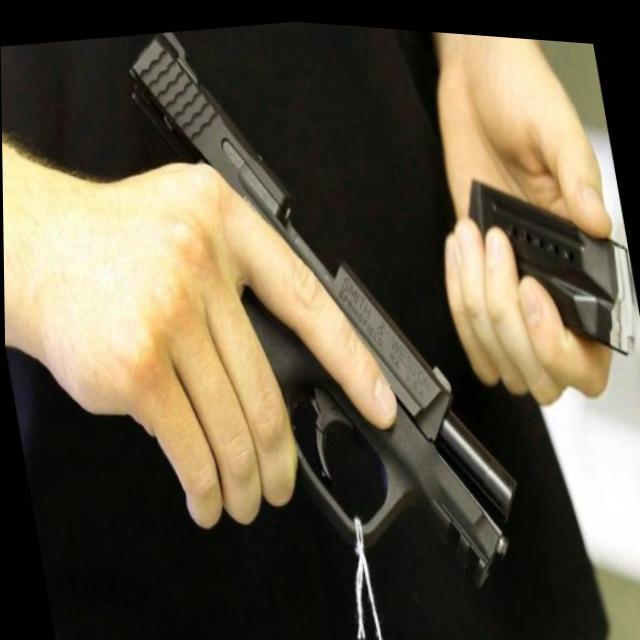weapon: (120, 7, 533, 628)
